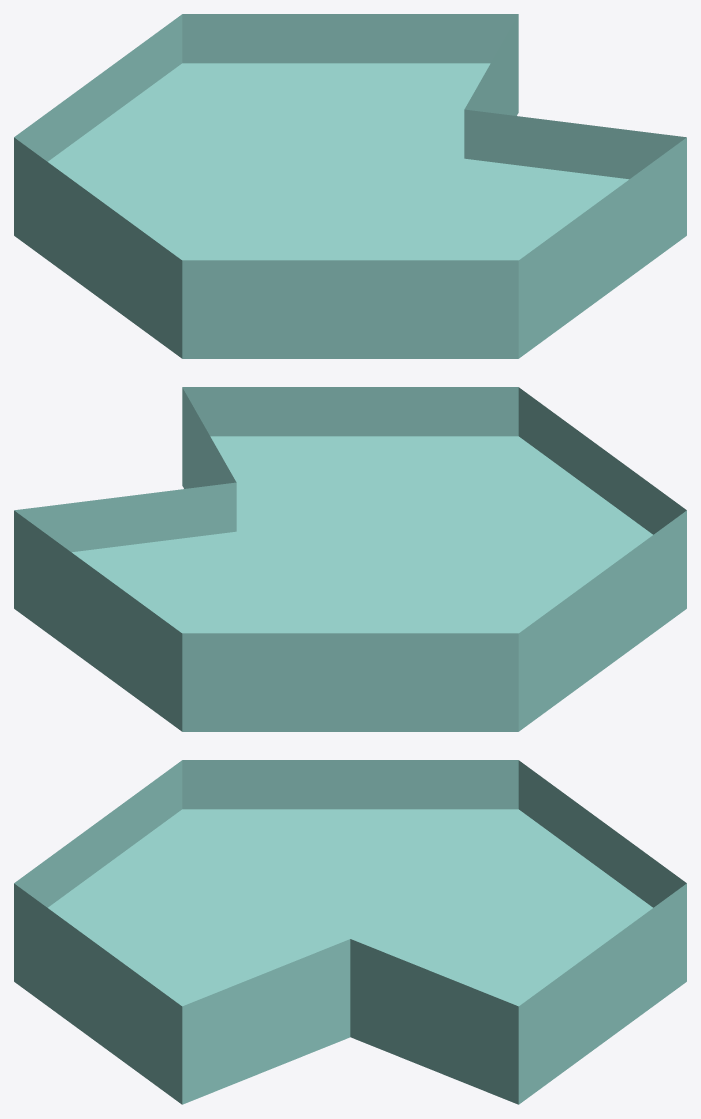
File: lily_small.glb
3 views of the same model, one above another, from view 1: azimuth 30°, elevation 25°; view 2: azimuth 150°, elevation 25°; view 3: azimuth 270°, elevation 25° (orthographic).
Visible parts, largest first — view 1: lily_small; view 2: lily_small; view 3: lily_small.
Boxes of the visible parts, x1,y1,x2,y2 form: lily_small: (14,14,686,358); lily_small: (14,387,686,731); lily_small: (14,760,686,1104).
Size of the model in its own units: 0.1772 by 0.033 by 0.2046.
